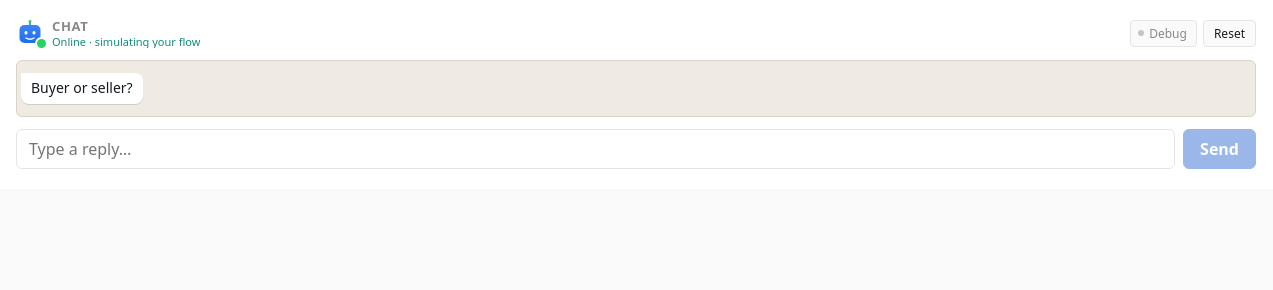
Test case: ChatPanel › debug toggle (designer-only step trace) › hides the trace again when Debug is toggled off
What coordinates should you click on to do the following:
click the button with test id "chat-debug-toggle"
I would click on:
 (1164, 33)
Its box is [1130, 20, 1197, 47].
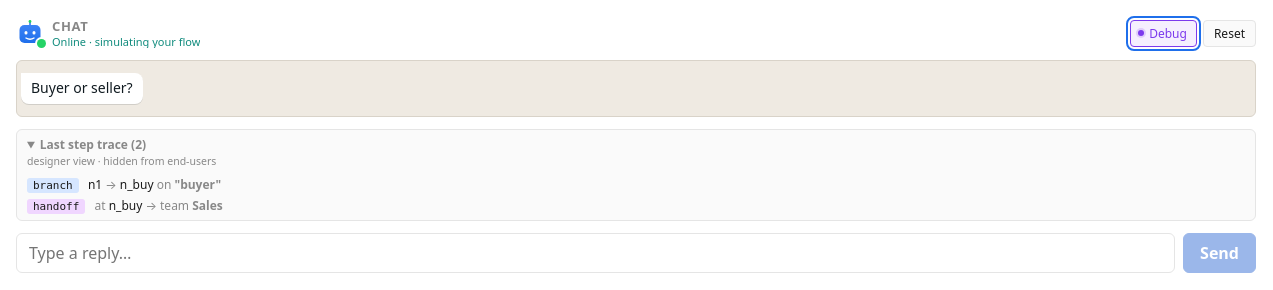
Check: the element with test id "chat-events" is shown, box [16, 129, 1256, 221]
What coordinates should you click on to do the following:
click the button with test id "chat-debug-toggle"
I would click on:
 (1164, 33)
Its box is [1130, 20, 1197, 47].
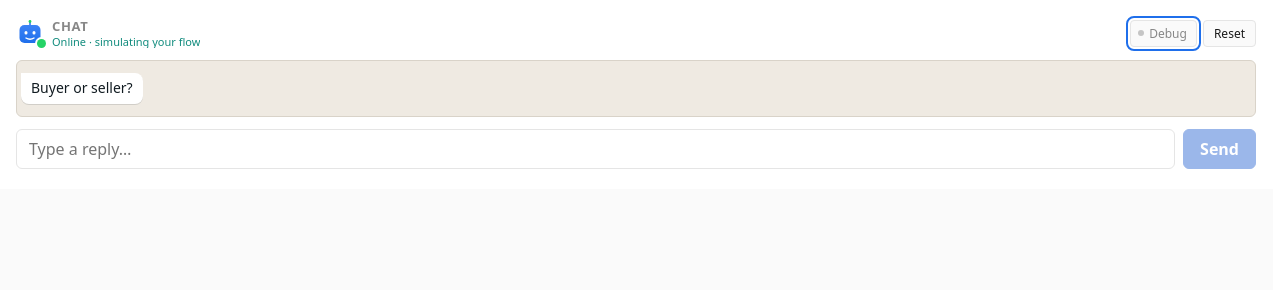
Check: the element with test id "chat-events" is gone
